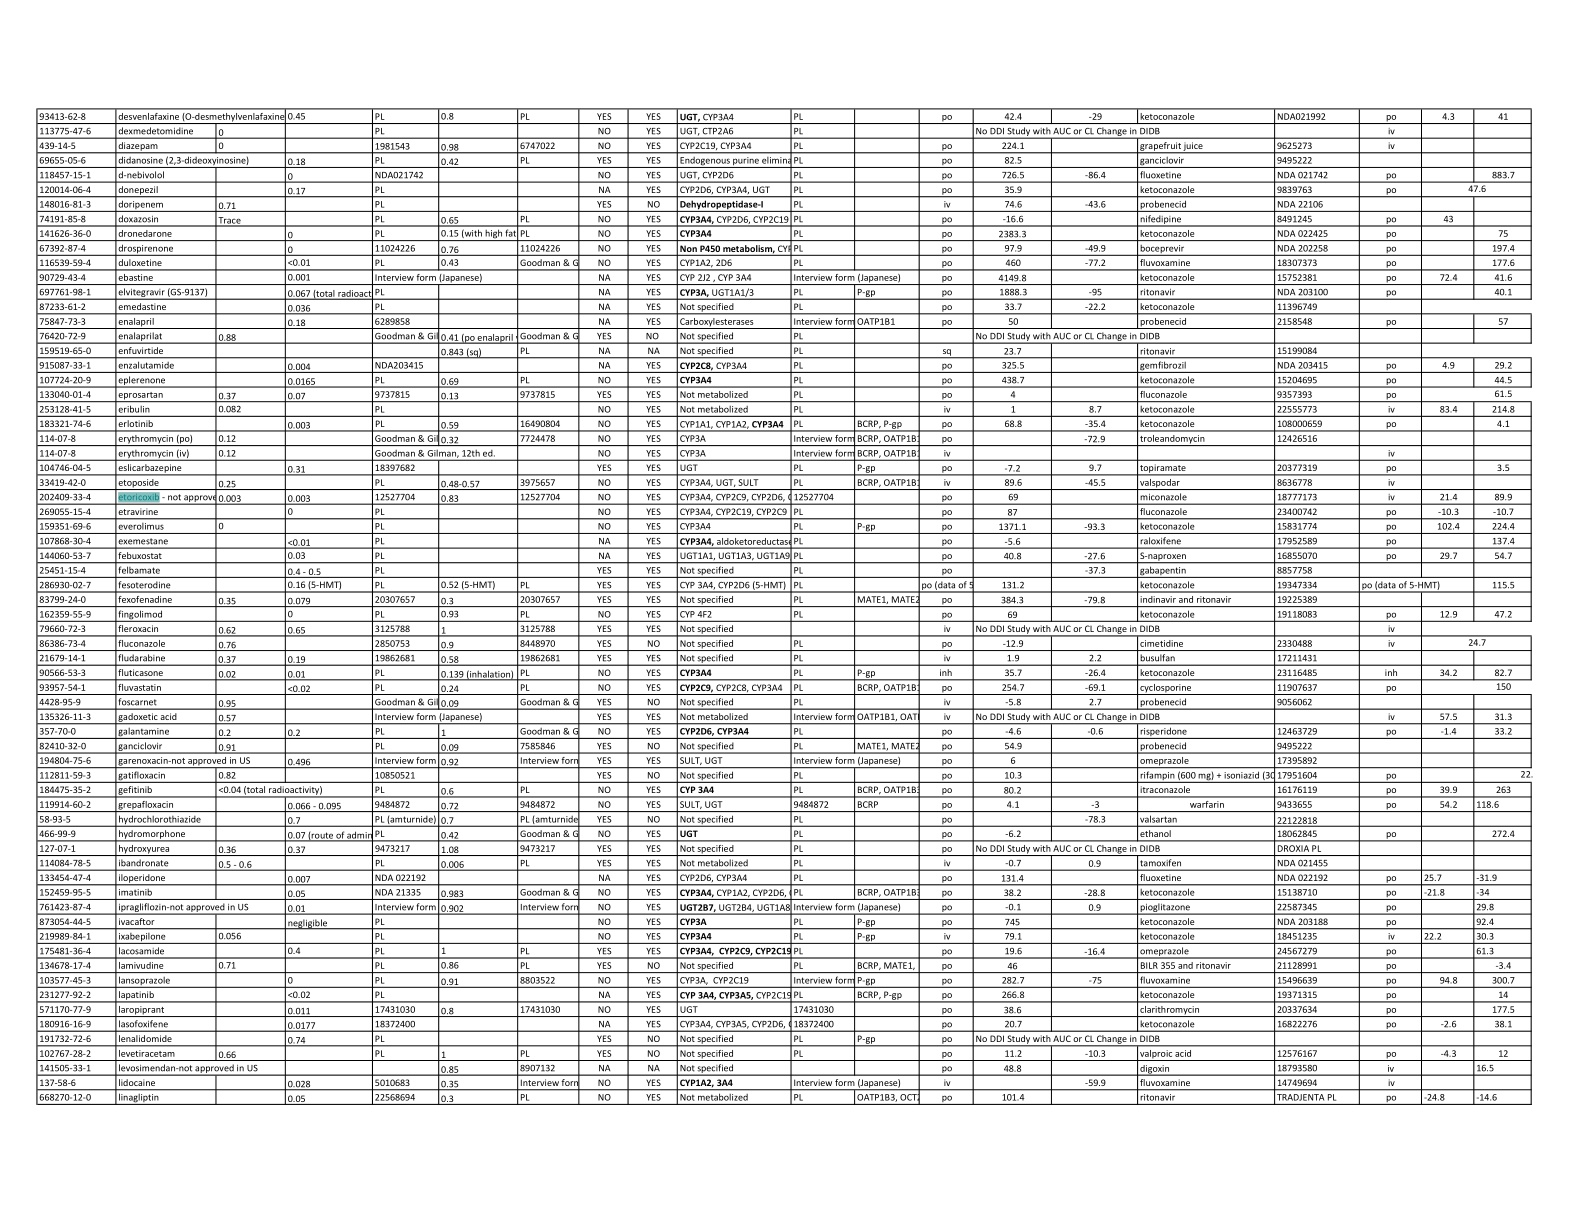merged_cells: (35, 107, 1533, 1104)
